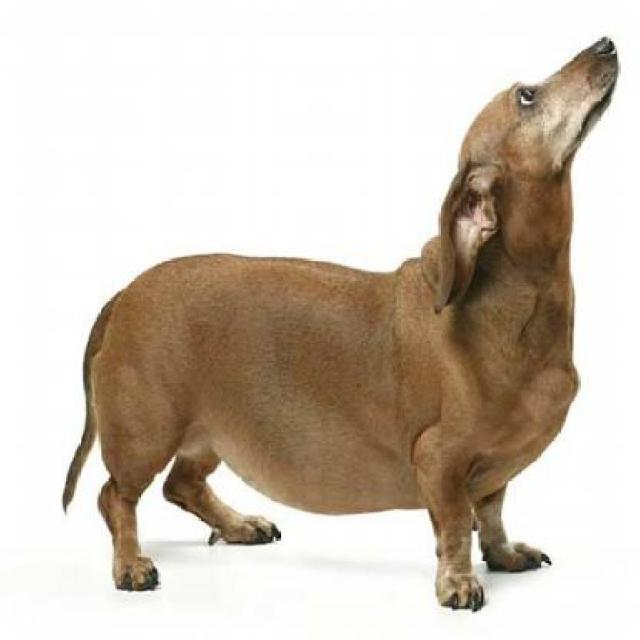Dog: (59, 35, 626, 617)
